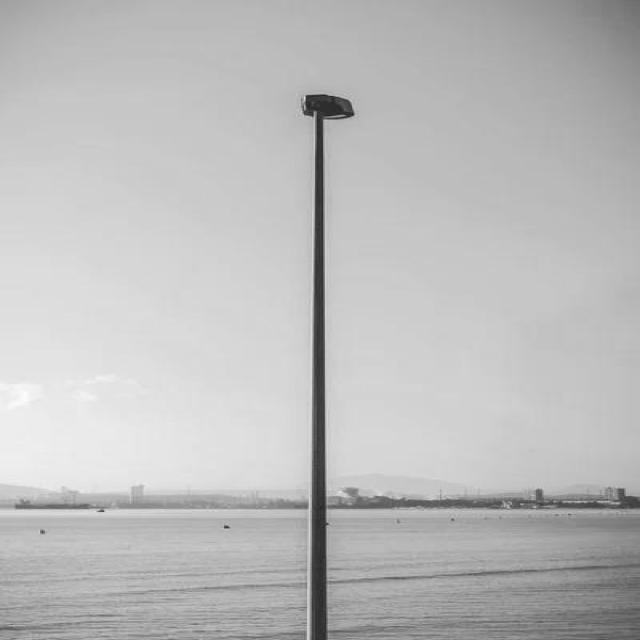Pole: (302, 94, 356, 639)
